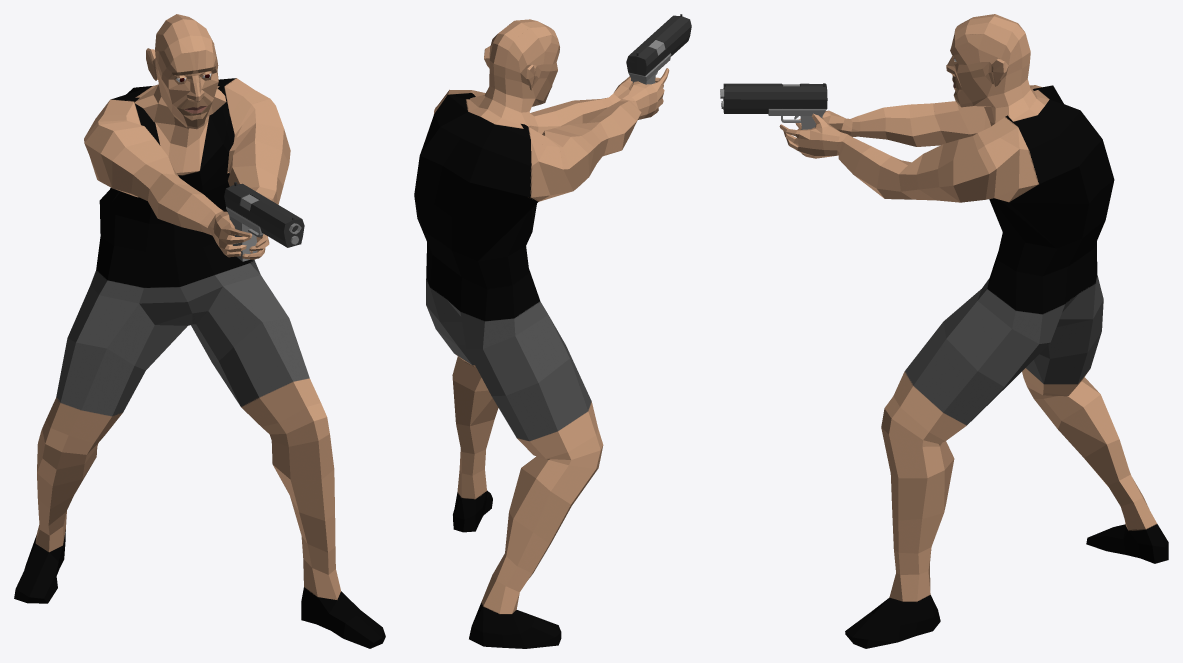
The model's file is PlayerShoot(21).obj.
3 views of the same model, side by side, from view 1: azimuth 30°, elevation 25°; view 2: azimuth 150°, elevation 25°; view 3: azimuth 270°, elevation 25° (orthographic). The views are drawn at different scales.
Parts seen in each view (by area): view 1: Plane002, Box003; view 2: Plane002, Box003; view 3: Plane002, Box003.
Part boxes in pixels (x1,y1,x2,y2): Plane002: (14, 14, 385, 648); Box003: (224, 182, 304, 261); Plane002: (414, 19, 669, 648); Box003: (626, 14, 691, 84); Plane002: (779, 14, 1168, 648); Box003: (720, 83, 827, 129).
Size of the model in its own units: 716 by 1664 by 1187.
